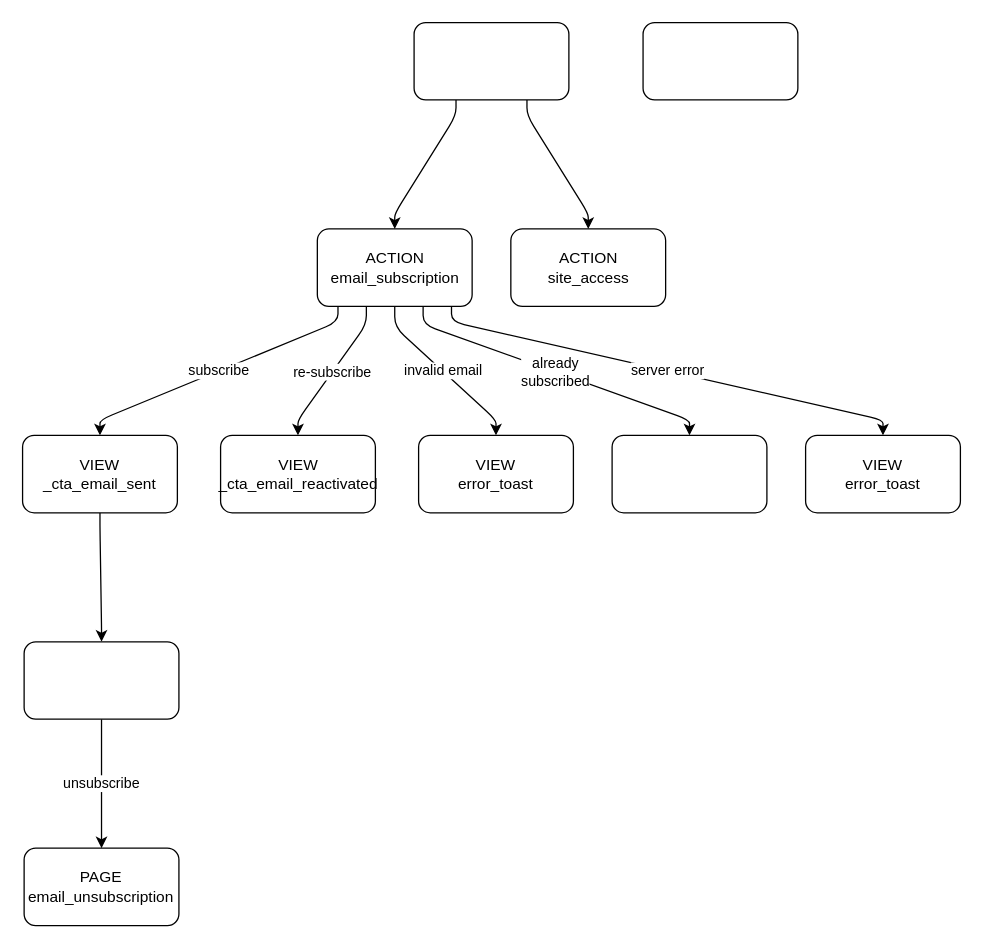
Image size: 983x948. Some labels were removed from this diagram. Here are the shapes that lost their labels. From the top down, the centre of each, then its label:
(491,60): PAGE landingpage
(720,60): PAGE 404
(689,473): VIEW _cta_email_duplicate
(101,679): EMAIL email_subscription
